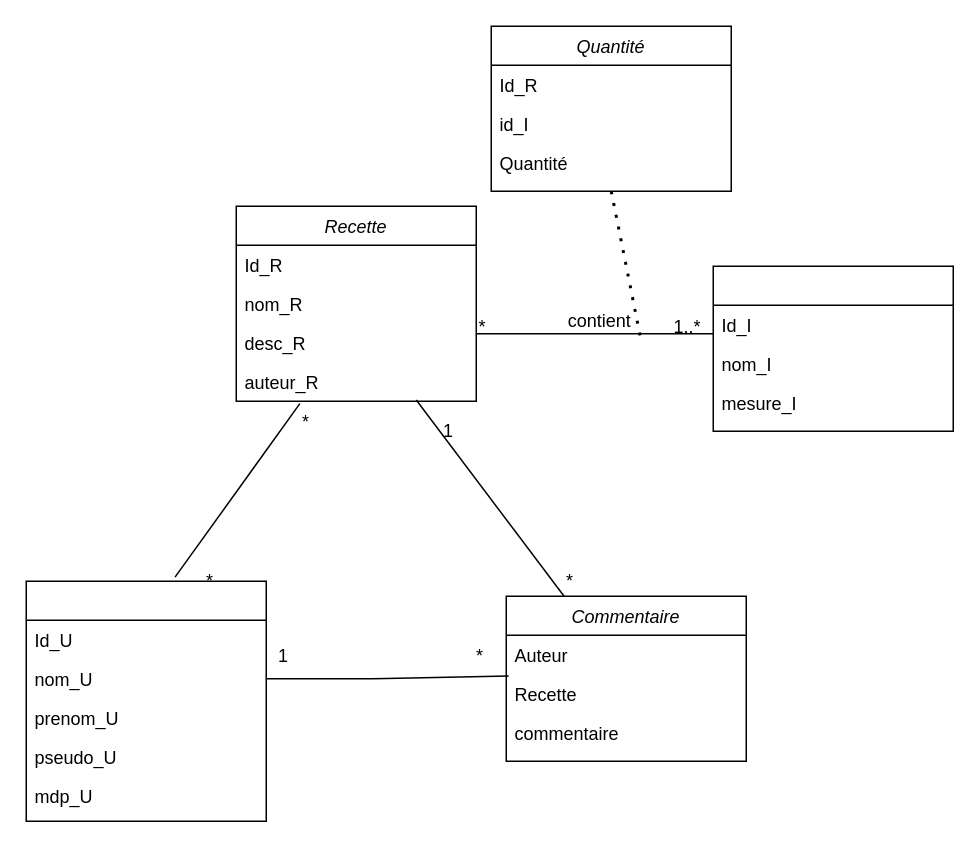
The diagram is 980 pixels wide and 848 high, and some of its shapes have lost their labels. Here are the shapes that lost their labels. From the top down, the box of each, then its label:
(712, 265, 953, 431): Ingrédients
(25, 580, 266, 821): Utilisateur
